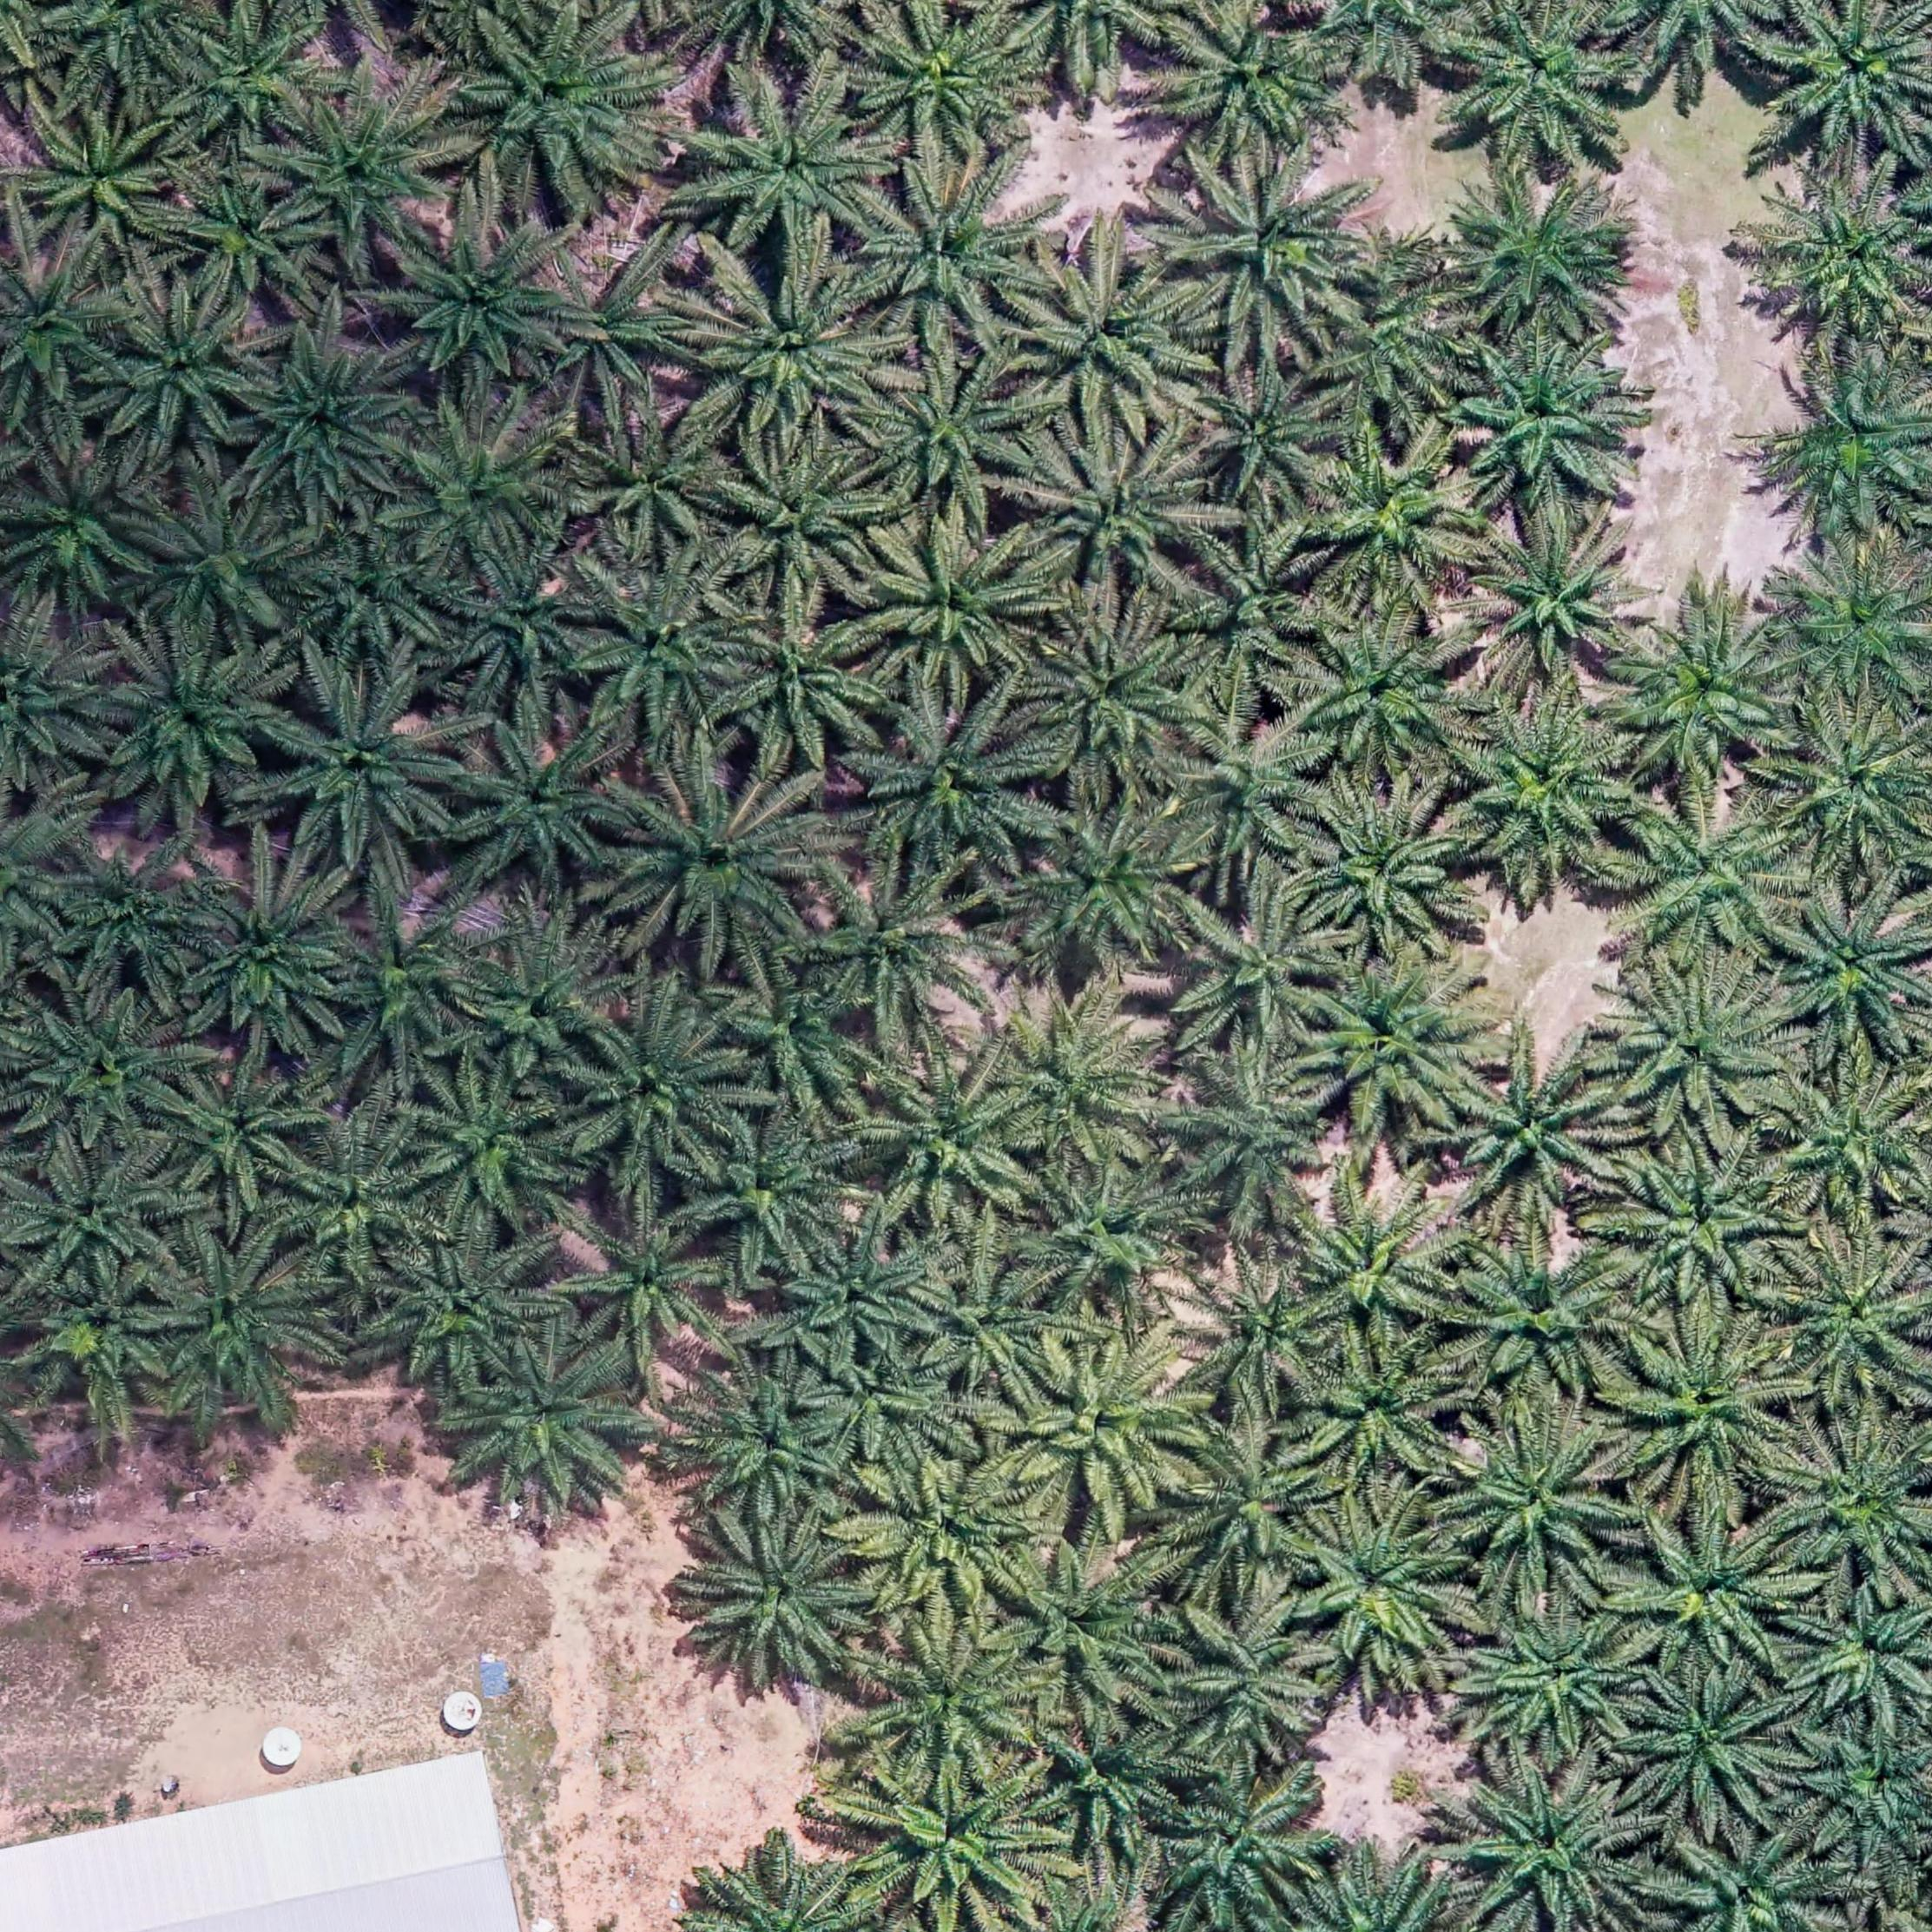palmtree: (605, 755, 833, 964), (446, 7, 669, 205), (255, 663, 464, 869), (1162, 149, 1371, 345), (683, 251, 886, 444), (676, 80, 890, 262), (844, 685, 1047, 869), (1456, 510, 1652, 699), (90, 630, 292, 814), (1005, 248, 1201, 435), (1297, 952, 1493, 1136), (791, 855, 989, 1035), (143, 1224, 331, 1414), (856, 154, 1049, 338), (379, 205, 571, 389), (678, 1511, 872, 1690), (1437, 161, 1631, 340), (1008, 1334, 1201, 1513), (1017, 423, 1212, 600), (846, 1755, 1049, 1923), (228, 334, 412, 518), (985, 980, 1169, 1164), (444, 715, 633, 893), (1005, 793, 1196, 970), (1017, 603, 1207, 780), (1610, 600, 1798, 777), (1438, 1226, 1629, 1399), (90, 278, 274, 456), (858, 520, 1049, 692), (449, 1339, 640, 1511), (184, 858, 361, 1042), (1753, 349, 1930, 533), (1161, 883, 1350, 1054), (1750, 159, 1930, 338), (1444, 1039, 1628, 1214), (267, 92, 453, 265), (856, 1054, 1040, 1228), (1612, 1318, 1796, 1491), (1447, 702, 1633, 874), (1619, 789, 1806, 959), (1304, 430, 1483, 607), (1447, 336, 1631, 508), (674, 1352, 858, 1523), (1603, 962, 1792, 1129), (1150, 4, 1350, 161), (563, 1000, 748, 1168), (1605, 1136, 1790, 1304), (1293, 1499, 1468, 1675), (554, 1192, 731, 1368), (1460, 1762, 1645, 1928), (1453, 4, 1642, 166), (1440, 1414, 1621, 1583), (994, 1537, 1169, 1711), (715, 437, 893, 607), (5, 985, 188, 1152), (858, 1621, 1042, 1785), (1297, 780, 1472, 952), (849, 5, 1040, 161), (382, 412, 563, 577), (718, 594, 893, 763), (1292, 1171, 1465, 1339), (1292, 605, 1470, 768), (1621, 1513, 1799, 1675), (5, 442, 172, 616), (575, 571, 752, 734), (853, 1460, 1031, 1621), (858, 350, 1039, 510), (1461, 1603, 1649, 1755), (1171, 525, 1334, 701), (326, 895, 494, 1063), (1169, 1042, 1336, 1212), (1169, 1599, 1330, 1773), (1014, 1150, 1194, 1304), (563, 403, 738, 559), (409, 1069, 579, 1228), (18, 106, 186, 265), (134, 488, 308, 642), (1169, 718, 1329, 885), (1624, 1667, 1794, 1822), (21, 1258, 203, 1403), (1755, 0, 1930, 150), (1766, 699, 1930, 858), (1159, 1766, 1329, 1920), (534, 251, 701, 407), (685, 1113, 853, 1267), (375, 1233, 545, 1385), (1769, 885, 1928, 1046), (442, 548, 607, 704), (159, 168, 329, 317), (156, 1062, 326, 1210), (1184, 354, 1346, 508), (1177, 1261, 1343, 1412), (455, 934, 621, 1085), (287, 515, 456, 662), (290, 1113, 444, 1274), (1175, 1422, 1338, 1575), (12, 1141, 177, 1290), (1307, 274, 1468, 425), (1771, 1237, 1927, 1391), (782, 1223, 945, 1368), (1780, 550, 1932, 704), (1783, 1421, 1932, 1578), (1300, 1334, 1461, 1479), (50, 842, 207, 989), (1767, 1067, 1927, 1212), (1028, 1702, 1185, 1847), (170, 9, 329, 150), (0, 246, 127, 421), (0, 609, 113, 791), (911, 1260, 1058, 1398), (1794, 1583, 1932, 1718), (1654, 1828, 1831, 1932), (1796, 1721, 1932, 1851)
